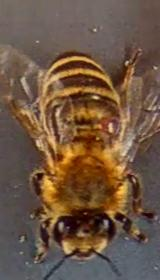varroa_mite: (93, 107, 122, 138)
